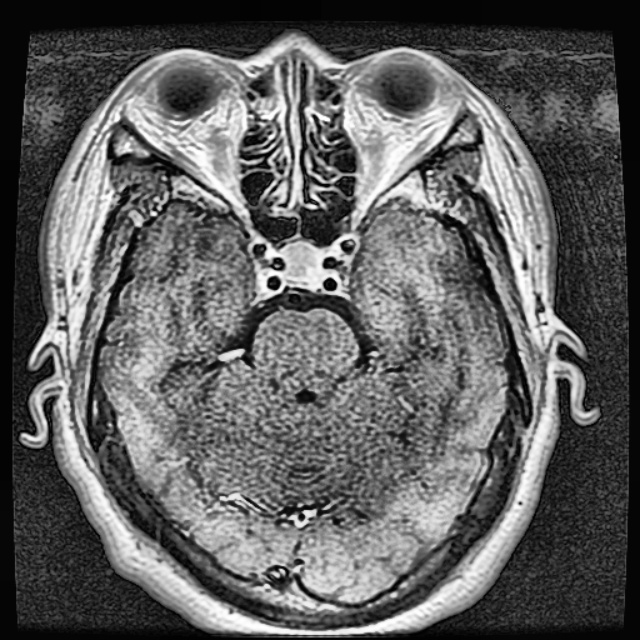Pituitary: (283, 242, 322, 288)
